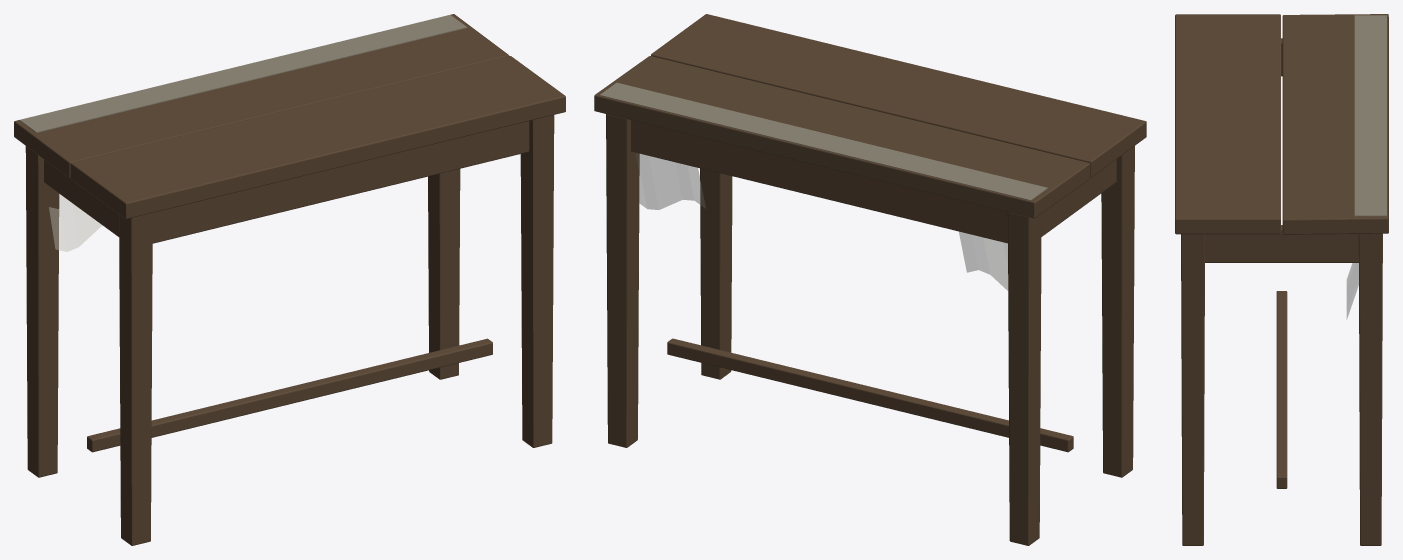
Rendered from BanThoHam.glb.
3 renders of one model, left to right at view 1: azimuth 30°, elevation 25°; view 2: azimuth 150°, elevation 25°; view 3: azimuth 270°, elevation 25°, orthographic. The views are drawn at different scales.
Parts seen in each view (by area): view 1: BanThoHam; view 2: BanThoHam; view 3: BanThoHam.
Boxes of the visible parts, box(x1,y1,x2,y2) form: BanThoHam: box(14, 14, 565, 545); BanThoHam: box(594, 14, 1146, 545); BanThoHam: box(1175, 14, 1388, 545).
Bounding box in the file's own units: 0.9 × 0.682 × 0.3971.
